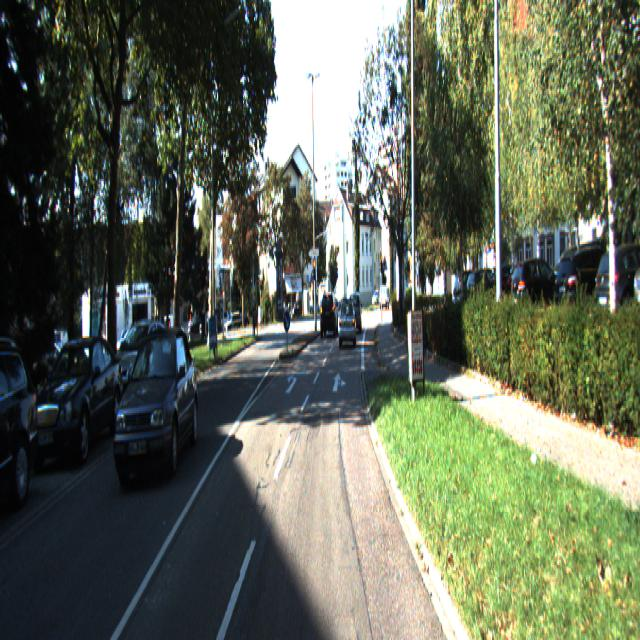Car: (114, 331, 198, 490), (29, 334, 125, 468), (0, 339, 45, 531), (109, 323, 174, 413), (339, 302, 356, 348), (321, 293, 338, 338)
